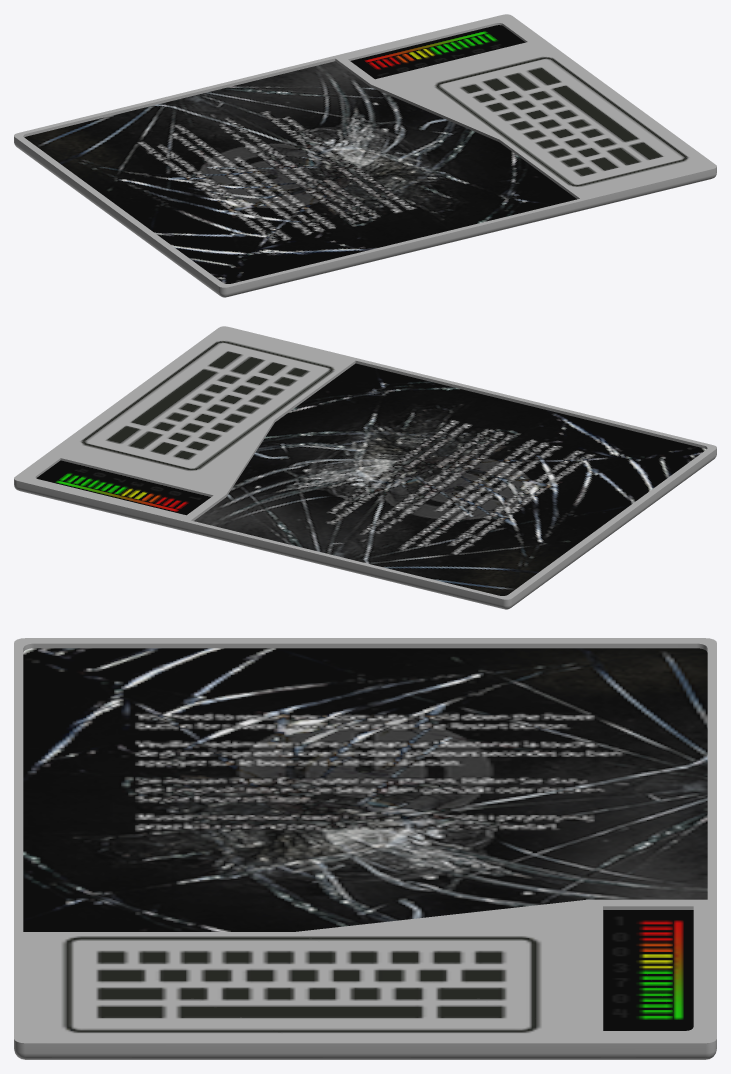
The model's file is prp_tablet.fbx.
3 views of the same model, one above another, from view 1: azimuth 30°, elevation 25°; view 2: azimuth 150°, elevation 25°; view 3: azimuth 270°, elevation 25° (orthographic). The views are drawn at different scales.
Parts seen in each view (by area): view 1: pCube2; view 2: pCube2; view 3: pCube2.
Boxes of the visible parts, x1,y1,x2,y2 form: pCube2: (14,14,716,297); pCube2: (14,326,716,609); pCube2: (14,638,716,1059).
Size of the model in its own units: 30 by 0.7 by 22.
Materials: 1 (1 with a texture image).
